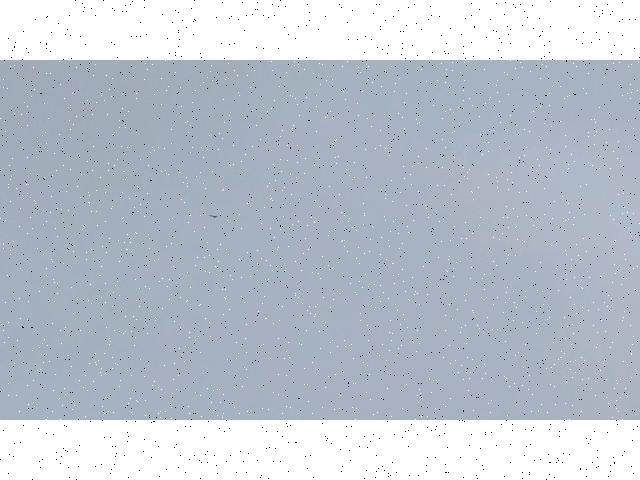Anti-Drone: (208, 213, 220, 219)
